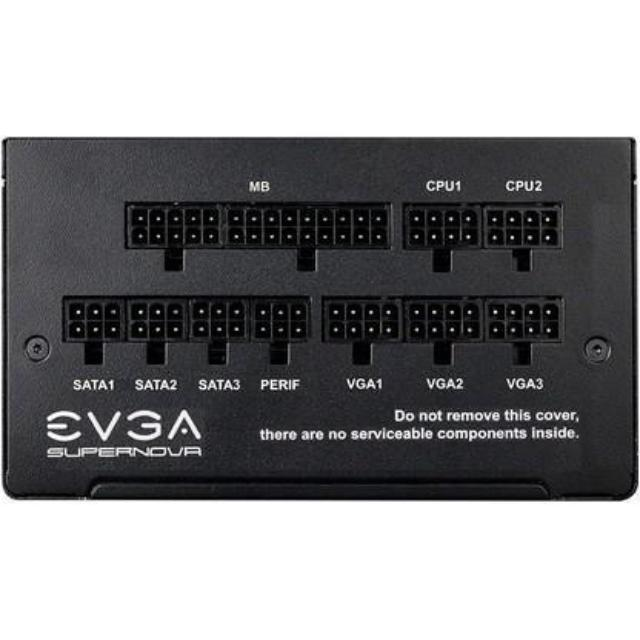PSU: (0, 120, 640, 526)
